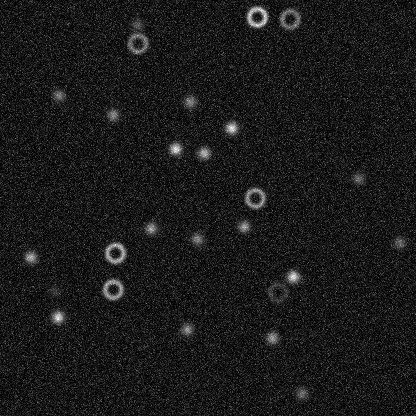Ring: (243, 185, 267, 209), (125, 31, 149, 55), (100, 277, 124, 301), (244, 4, 268, 28), (265, 280, 289, 304), (277, 6, 301, 30), (102, 240, 126, 264)
Spot: (264, 329, 280, 345), (46, 283, 62, 299), (223, 119, 239, 135), (181, 93, 197, 109), (129, 16, 145, 32), (22, 249, 38, 265), (167, 140, 183, 156), (50, 87, 66, 103), (195, 144, 211, 160), (104, 106, 120, 122), (235, 218, 251, 234), (293, 385, 309, 401), (189, 230, 205, 246), (178, 321, 194, 337), (284, 268, 300, 284), (49, 309, 65, 325), (349, 170, 365, 186), (143, 220, 159, 236), (391, 234, 407, 250)
